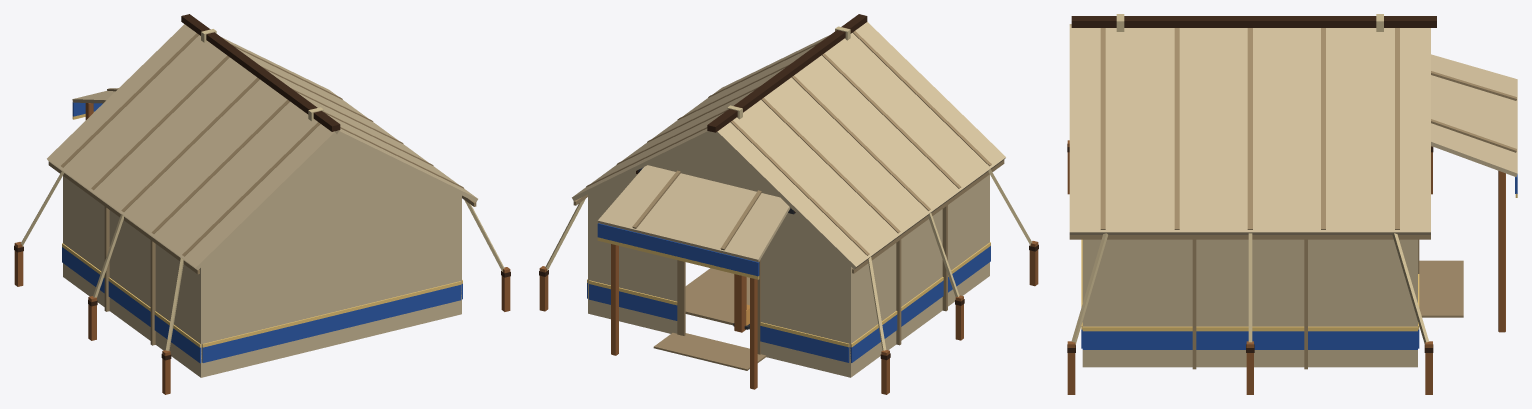
Rendered from 中等帐篷_手游_近.glb.
The picture shows the model from 3 angles, left to right: view 1: azimuth 30°, elevation 25°; view 2: azimuth 150°, elevation 25°; view 3: azimuth 270°, elevation 25°; orthographic projection. The views are drawn at different scales.
Visible parts, largest first — view 1: TN2-主体, TN2-team, TN2-team_trim; view 2: TN2-主体, TN2-team, TN2-team_trim; view 3: TN2-主体, TN2-team, TN2-team_trim.
Boxes of the visible parts, x1,y1,x2,y2 form: TN2-主体: (14,14,510,394); TN2-team: (62,102,462,363); TN2-team_trim: (62,111,462,347); TN2-主体: (539,14,1038,394); TN2-team: (587,223,990,362); TN2-team_trim: (587,237,990,347); TN2-主体: (1067,14,1517,394); TN2-team: (1081,174,1517,349); TN2-team_trim: (1081,193,1517,331).
Size of the model in its own units: 4.77 by 2.99 by 4.44.
Materials: 4 (2 with a texture image).
